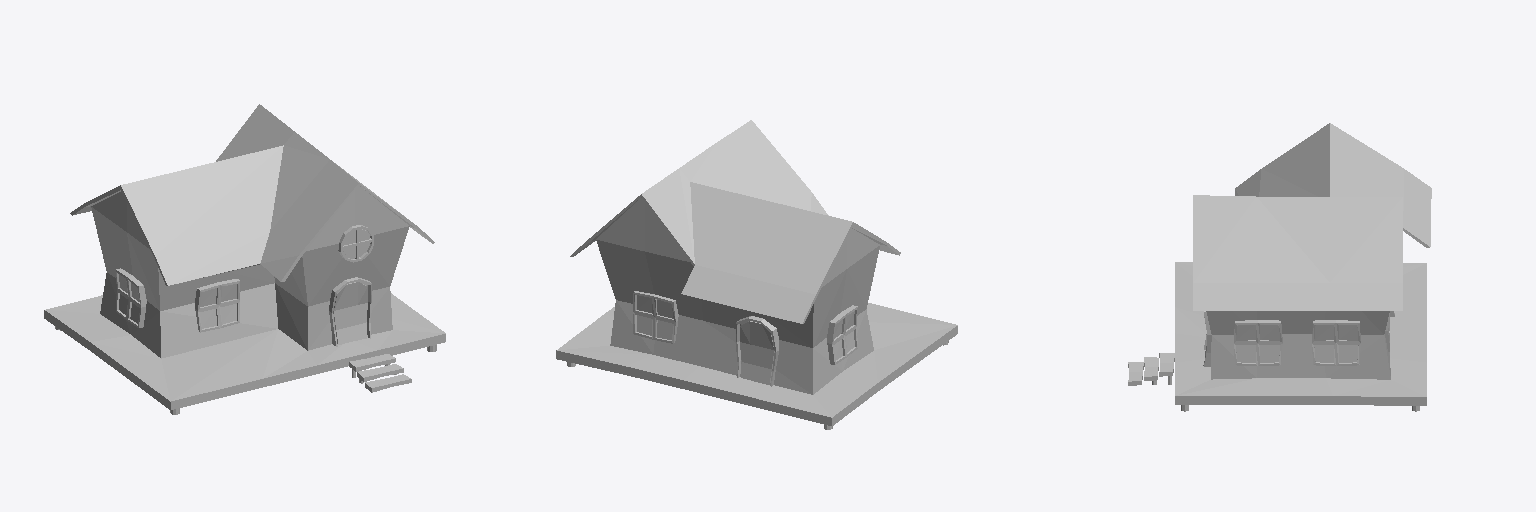
The model's file is CasaSep.obj.
3 views of the same model, side by side, from view 1: azimuth 30°, elevation 25°; view 2: azimuth 150°, elevation 25°; view 3: azimuth 270°, elevation 25° (orthographic).
Parts seen in each view (by area): view 1: casa, Casa_telhado, Casa_porta1, Casa_janela1, casa_janela2, casa_janela_redonda; view 2: casa, Casa_telhado, casa_porta2, casa_janela3, casa_janela2; view 3: Casa_telhado, casa, casa_janela4, casa_janela5.
Part boxes in pixels (x1,y1,x2,y2): casa: (44,185,445,409); Casa_telhado: (70,104,434,285); Casa_porta1: (329,277,371,346); Casa_janela1: (195,279,239,332); casa_janela2: (116,268,146,327); casa_janela_redonda: (338,225,373,262); casa: (556,198,957,425); Casa_telhado: (570,120,900,323); casa_porta2: (736,316,778,386); casa_janela3: (633,291,678,343); casa_janela2: (827,305,857,364); Casa_telhado: (1193,123,1431,310); casa: (1175,262,1426,405); casa_janela4: (1312,320,1360,365); casa_janela5: (1234,320,1282,365).
Size of the model in its own units: 1.37 by 0.8688 by 1.31.